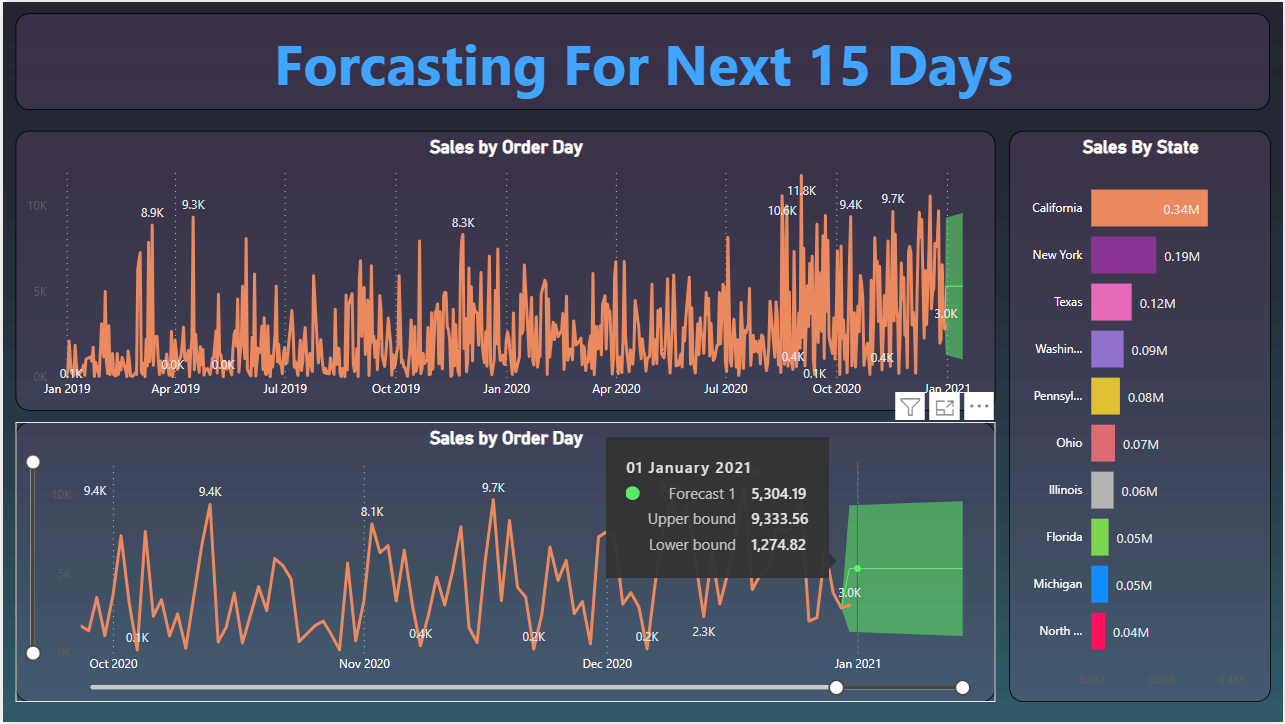

The dashboard page shown, as its layout file describes it:
{"tool":"powerbi","page":{"name":"Page 2","canvas":[1280,720],"ordinal":1},"visuals":[{"type":"lineChart","title":"Sales by Order Day","fields":{"Y":["Sum(SuperStore_Sales_Dataset.Sales)"],"Category":["SuperStore_Sales_Dataset.Order Date"]},"box":[12.9,128.6,980,280],"z":0},{"type":"textbox","box":[12.9,11.4,1254.3,97.1],"z":1000},{"type":"lineChart","title":"Sales by Order Day","fields":{"Y":["Sum(SuperStore_Sales_Dataset.Sales)"],"Category":["SuperStore_Sales_Dataset.Order Date"]},"box":[12.9,420,980,280],"z":2000},{"type":"clusteredBarChart","title":"Sales By State","fields":{"Y":["Sum(SuperStore_Sales_Dataset.Sales)"],"Category":["SuperStore_Sales_Dataset.State"]},"box":[1005.7,128.6,261.4,571.4],"z":3000}]}

Visuals, with their boxes in screenshot pixels (x1, y1, x2, y2), scaled from the page's 1280x720 canvas onto the 1285x724 screenshot:
"Sales by Order Day" lineChart: [left=13, top=129, right=997, bottom=411]
textbox: [left=13, top=11, right=1272, bottom=109]
"Sales by Order Day" lineChart: [left=13, top=422, right=997, bottom=704]
"Sales By State" clusteredBarChart: [left=1010, top=129, right=1272, bottom=704]
